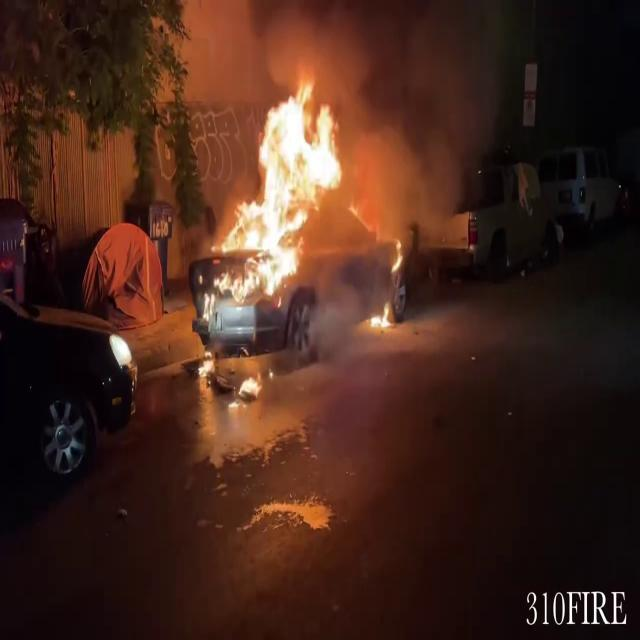Fire: (200, 70, 350, 334), (364, 296, 396, 334)
Smoke: (334, 1, 508, 218)
